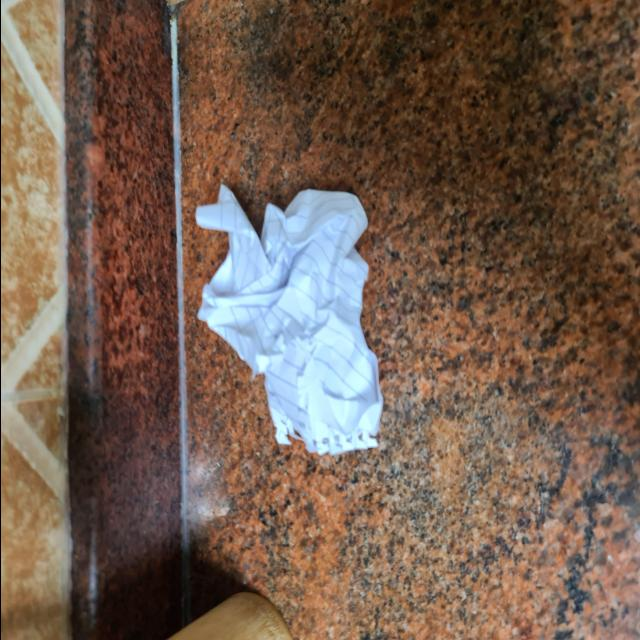kertas: (188, 188, 382, 477)
